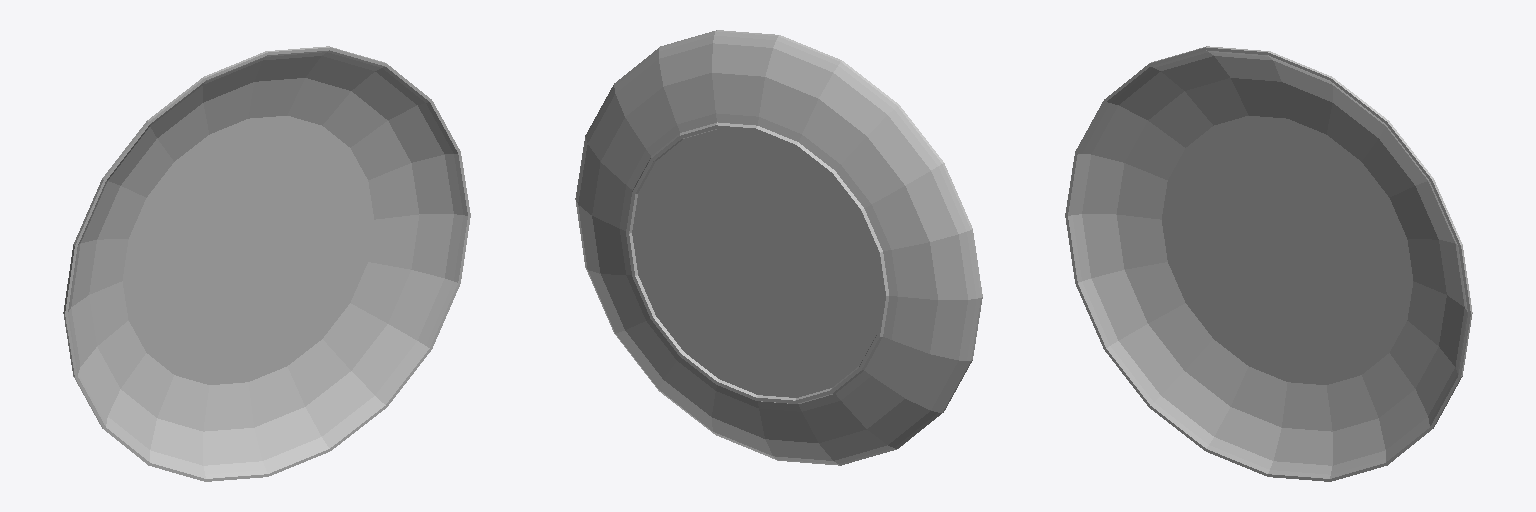
File: plastic_plate_visual.obj
3 renders of one model, left to right at view 1: azimuth 30°, elevation 25°; view 2: azimuth 150°, elevation 25°; view 3: azimuth 330°, elevation 25°, orthographic.
Visible parts, largest first — view 1: plastic_plate-lib; view 2: plastic_plate-lib; view 3: plastic_plate-lib.
Part boxes in pixels (bbox=[...]): plastic_plate-lib: bbox=[63, 46, 470, 481]; plastic_plate-lib: bbox=[575, 30, 982, 465]; plastic_plate-lib: bbox=[1065, 46, 1472, 481].
Size of the model in its own units: 0.2649 by 0.2649 by 0.027.